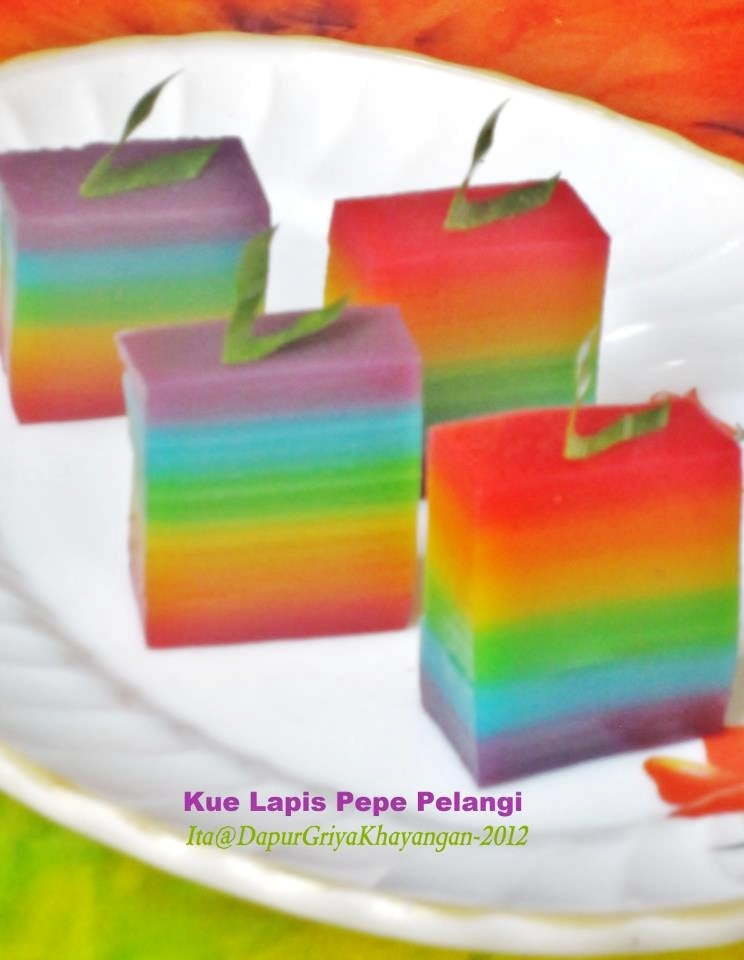kue_lapis_pelangi: (423, 397, 733, 796), (117, 300, 420, 657)
